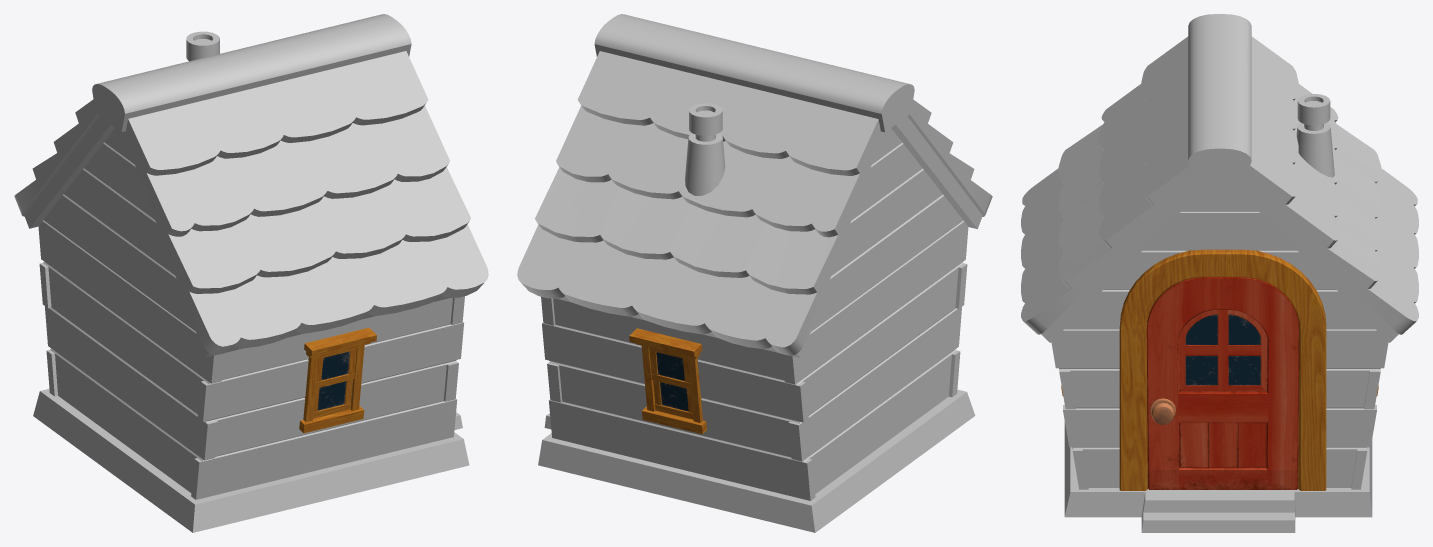
3 views of the same model, side by side, from view 1: azimuth 30°, elevation 25°; view 2: azimuth 150°, elevation 25°; view 3: azimuth 270°, elevation 25° (orthographic). The views are drawn at different scales.
Visible parts, largest first — view 1: House; view 2: House; view 3: House.
Boxes of the visible parts, left/top/right/bottom form: House: left=14, top=14, right=488, bottom=532; House: left=517, top=14, right=992, bottom=532; House: left=1021, top=14, right=1418, bottom=532.
Size of the model in its own units: 186 by 219 by 212.
